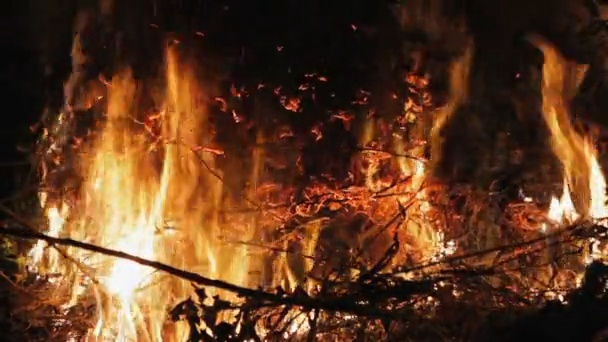fire: (23, 55, 315, 342), (538, 42, 608, 261), (397, 155, 430, 216), (432, 236, 454, 258)
